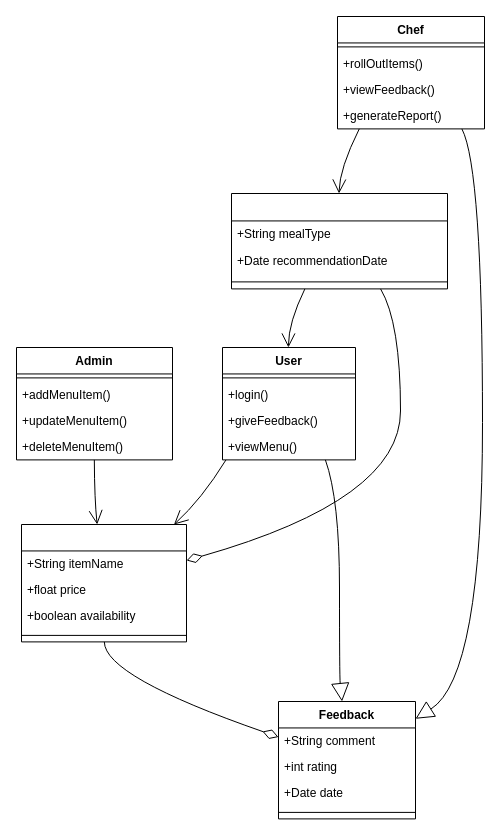
Some shapes in this 501 by 835 pixel diagram are drawn without their labels. The box of each missing label's shape, as (x1, y1, x2, y2) in pixels:
FoodRecommendation: (230, 192, 448, 289)
Menu: (20, 524, 186, 642)
